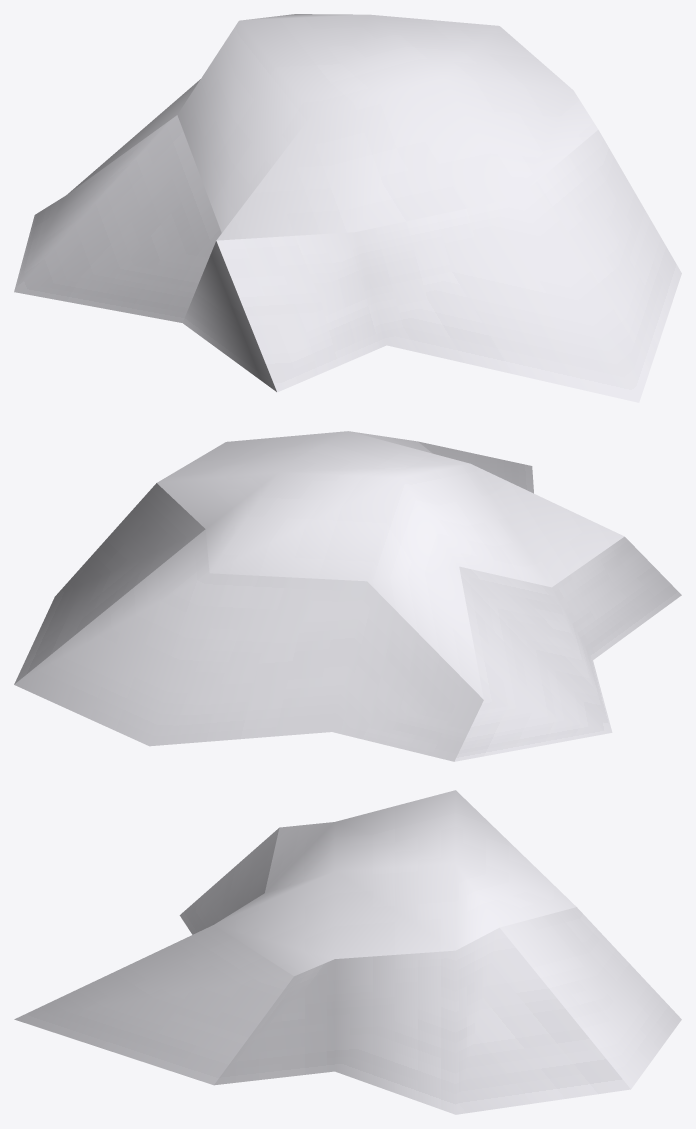
File: SmallIce_N.fbx
3 views of the same model, one above another, from view 1: azimuth 30°, elevation 25°; view 2: azimuth 150°, elevation 25°; view 3: azimuth 270°, elevation 25° (orthographic). The views are drawn at different scales.
Parts seen in each view (by area): view 1: pCube5; view 2: pCube5; view 3: pCube5.
Boxes of the visible parts, bbox=[...] form: pCube5: bbox=[14, 14, 681, 402]; pCube5: bbox=[14, 431, 681, 761]; pCube5: bbox=[14, 790, 681, 1114].
Bounding box in the file's own units: 2.93 × 1.02 × 3.49.
Materials: 1 (1 with a texture image).
